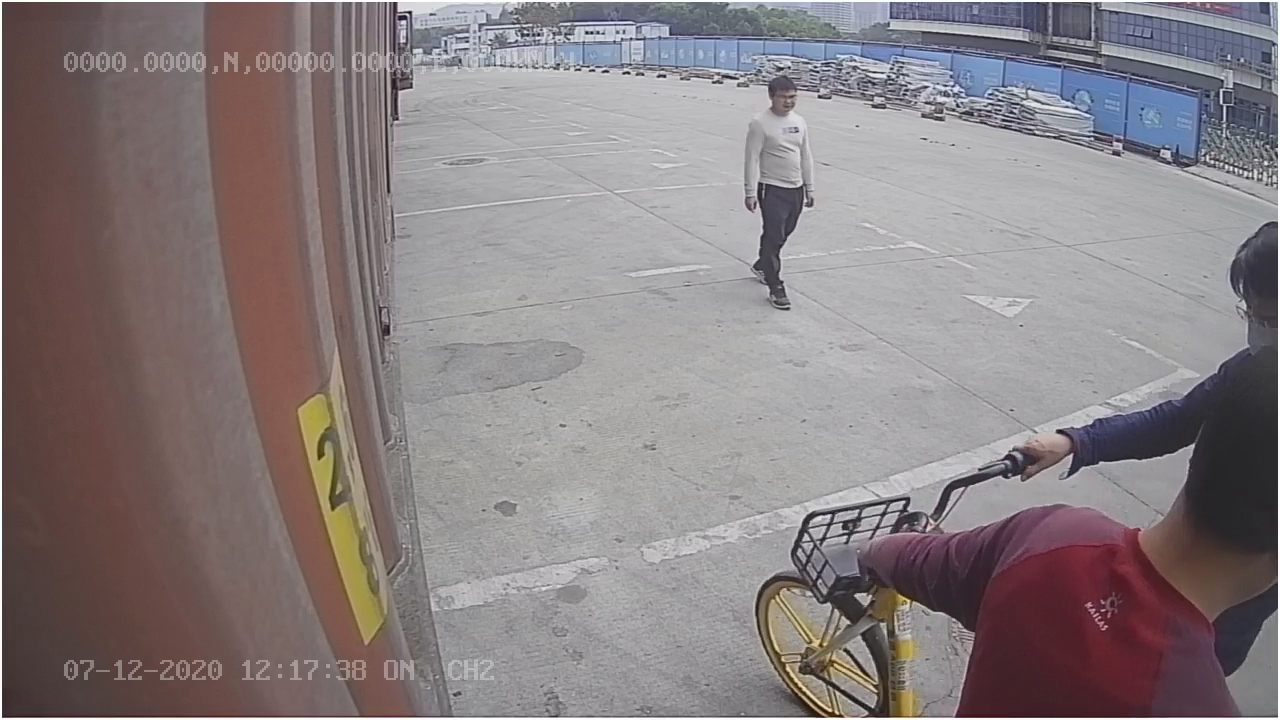person: (737, 70, 819, 313)
